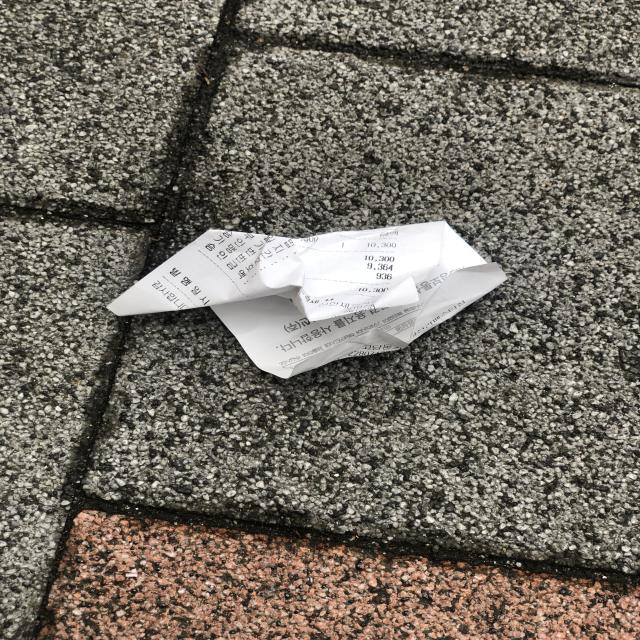giay: (108, 221, 506, 378)
